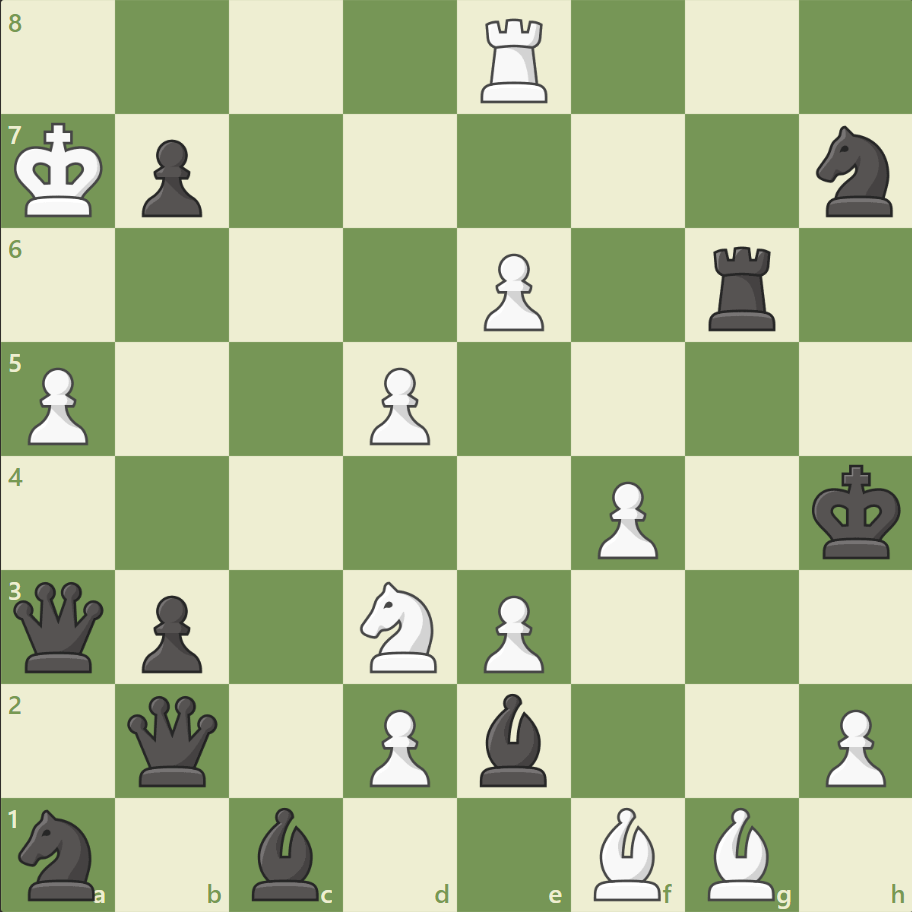B: (585, 801, 669, 904), (698, 801, 782, 904)
K: (11, 117, 111, 225)
N: (351, 575, 449, 677)
P: (474, 246, 549, 337), (20, 359, 95, 450), (474, 586, 549, 677), (361, 359, 435, 450), (588, 473, 662, 564), (361, 700, 435, 791), (815, 700, 889, 791)
R: (473, 12, 556, 109)
b: (471, 687, 555, 790), (244, 801, 328, 904)
k: (806, 458, 906, 566)
n: (806, 121, 903, 223), (11, 802, 108, 904)
p: (133, 132, 208, 223), (133, 586, 208, 677)
q: (10, 576, 109, 676), (124, 690, 223, 789)
r: (700, 239, 783, 336)
